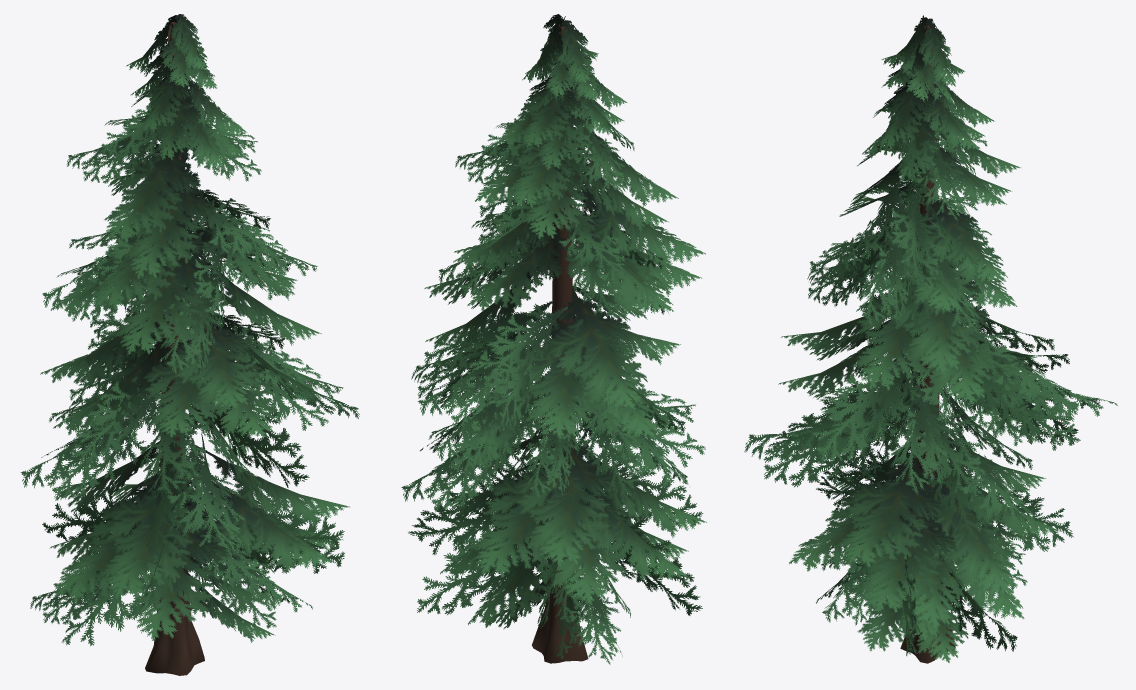
The model's file is Fir_S_Blue.fbx.
3 views of the same model, side by side, from view 1: azimuth 30°, elevation 25°; view 2: azimuth 150°, elevation 25°; view 3: azimuth 270°, elevation 25° (orthographic). The views are drawn at different scales.
Visible parts, largest first — view 1: polySurface2256; view 2: polySurface2256; view 3: polySurface2256.
Boxes of the visible parts, bbox=[...] form: polySurface2256: bbox=[20, 14, 359, 675]; polySurface2256: bbox=[401, 14, 706, 664]; polySurface2256: bbox=[744, 15, 1117, 663].
Size of the model in its own units: 390 by 770 by 419.
